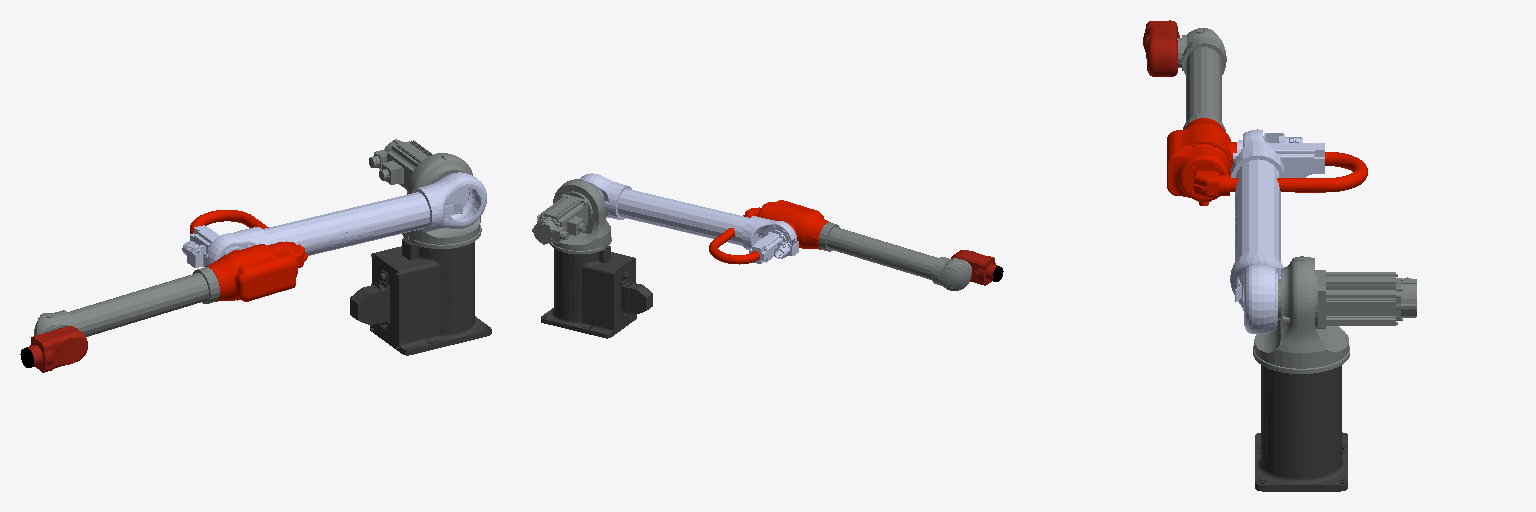
URDF robot description (HSR-BR610-1300-2026825):
<?xml version="1.0" encoding="utf-8"?>
<!-- This URDF was automatically created by SolidWorks to URDF Exporter! Originally created by Stephen Brawner (brawner@gmail.com) 
     Commit Version: 1.6.0-4-g7f85cfe  Build Version: 1.6.7995.38578
     For more information, please see http://wiki.ros.org/sw_urdf_exporter -->
<robot
  name="HSR-BR610-1300-2026825">
  <link
    name="base_link">
    <inertial>
      <origin
        xyz="-0.00947525692440264 -2.09394986025804E-07 0.130870576816009"
        rpy="0 0 0" />
      <mass
        value="11.3648443242494" />
      <inertia
        ixx="0.0941610098443713"
        ixy="2.86107374747134E-06"
        ixz="-0.00563813071143465"
        iyy="0.125919418577362"
        iyz="-2.59919899401709E-09"
        izz="0.0788237378414867" />
    </inertial>
    <visual>
      <origin
        xyz="0 0 0"
        rpy="0 0 0" />
      <geometry>
        <mesh
          filename="package://HSR-BR610-1300-2026825/meshes/base_link.STL" />
      </geometry>
      <material
        name="">
        <color
          rgba="0.294117647058824 0.294117647058824 0.294117647058824 1" />
      </material>
    </visual>
    <collision>
      <origin
        xyz="0 0 0"
        rpy="0 0 0" />
      <geometry>
        <mesh
          filename="package://HSR-BR610-1300-2026825/meshes/base_link.STL" />
      </geometry>
    </collision>
  </link>
  <link
    name="J1">
    <inertial>
      <origin
        xyz="-0.00170707525087675 0.0454046589538665 0.0989929087377179"
        rpy="0 0 0" />
      <mass
        value="5.7592246311655" />
      <inertia
        ixx="0.0575951663806666"
        ixy="0.00134872849814164"
        ixz="0.000398242207826708"
        iyy="0.031239131871014"
        iyz="-0.00906366083539025"
        izz="0.0503094164574005" />
    </inertial>
    <visual>
      <origin
        xyz="0 0 0"
        rpy="0 0 0" />
      <geometry>
        <mesh
          filename="package://HSR-BR610-1300-2026825/meshes/J1.STL" />
      </geometry>
      <material
        name="">
        <color
          rgba="0.529411764705882 0.549019607843137 0.549019607843137 1" />
      </material>
    </visual>
    <collision>
      <origin
        xyz="0 0 0"
        rpy="0 0 0" />
      <geometry>
        <mesh
          filename="package://HSR-BR610-1300-2026825/meshes/J1.STL" />
      </geometry>
    </collision>
  </link>
  <joint
    name="J1"
    type="revolute">
    <origin
      xyz="0.0375 0 0.283"
      rpy="0 0 0" />
    <parent
      link="base_link" />
    <child
      link="J1" />
    <axis
      xyz="0 0 1" />
    <limit
      lower="-2.7"
      upper="2.7"
      effort="110"
      velocity="6.2" />
  </joint>
  <link
    name="J2">
    <inertial>
      <origin
        xyz="-9.27217139909154E-05 -0.396205929499671 -0.0435575868135686"
        rpy="0 0 0" />
      <mass
        value="6.5951117334012" />
      <inertia
        ixx="0.38666838815466"
        ixy="-0.000197955602163329"
        ixz="4.50801235554094E-05"
        iyy="0.0129682532637907"
        iyz="0.00658602686747636"
        izz="0.384843238184399" />
    </inertial>
    <visual>
      <origin
        xyz="0 0 0"
        rpy="0 0 0" />
      <geometry>
        <mesh
          filename="package://HSR-BR610-1300-2026825/meshes/J2.STL" />
      </geometry>
      <material
        name="">
        <color
          rgba="0.792156862745098 0.819607843137255 0.933333333333333 1" />
      </material>
    </visual>
    <collision>
      <origin
        xyz="0 0 0"
        rpy="0 0 0" />
      <geometry>
        <mesh
          filename="package://HSR-BR610-1300-2026825/meshes/J2.STL" />
      </geometry>
    </collision>
  </link>
  <joint
    name="J2"
    type="revolute">
    <origin
      xyz="0 -0.0475 0.133"
      rpy="-1.5708 0 0" />
    <parent
      link="J1" />
    <child
      link="J2" />
    <axis
      xyz="0 0 1" />
    <limit
      lower="-3.1"
      upper="-0.03"
      effort="110"
      velocity="4.3" />
  </joint>
  <link
    name="J3">
    <inertial>
      <origin
        xyz="0.000151615811517125 -0.0150645626724696 -0.076610299827678"
        rpy="0 0 0" />
      <mass
        value="3.47855787129341" />
      <inertia
        ixx="0.0116544037035361"
        ixy="8.35116148186985E-06"
        ixz="8.63881231505848E-07"
        iyy="0.00845553176433113"
        iyz="-0.000435559054150244"
        izz="0.00918508747854132" />
    </inertial>
    <visual>
      <origin
        xyz="0 0 0"
        rpy="0 0 0" />
      <geometry>
        <mesh
          filename="package://HSR-BR610-1300-2026825/meshes/J3.STL" />
      </geometry>
      <material
        name="">
        <color
          rgba="0.874509803921569 0.149019607843137 0 1" />
      </material>
    </visual>
    <collision>
      <origin
        xyz="0 0 0"
        rpy="0 0 0" />
      <geometry>
        <mesh
          filename="package://HSR-BR610-1300-2026825/meshes/J3.STL" />
      </geometry>
    </collision>
  </link>
  <joint
    name="J3"
    type="revolute">
    <origin
      xyz="0 -0.726 -0.089"
      rpy="0 0 -1.5708" />
    <parent
      link="J2" />
    <child
      link="J3" />
    <axis
      xyz="0 0 1" />
    <limit
      lower="2"
      upper="7.3"
      effort="55"
      velocity="6.2" />
  </joint>
  <link
    name="J4">
    <inertial>
      <origin
        xyz="-1.70391788643087E-05 -0.00179102086498159 0.286182837282508"
        rpy="0 0 0" />
      <mass
        value="3.12272451478143" />
      <inertia
        ixx="0.0894635500616638"
        ixy="-3.88791373071095E-07"
        ixz="1.21653667004422E-05"
        iyy="0.0894184137188769"
        iyz="0.00130984243738576"
        izz="0.00305547347391822" />
    </inertial>
    <visual>
      <origin
        xyz="0 0 0"
        rpy="0 0 0" />
      <geometry>
        <mesh
          filename="package://HSR-BR610-1300-2026825/meshes/J4.STL" />
      </geometry>
      <material
        name="">
        <color
          rgba="0.529411764705882 0.549019607843137 0.549019607843137 1" />
      </material>
    </visual>
    <collision>
      <origin
        xyz="0 0 0"
        rpy="0 0 0" />
      <geometry>
        <mesh
          filename="package://HSR-BR610-1300-2026825/meshes/J4.STL" />
      </geometry>
    </collision>
  </link>
  <joint
    name="J4"
    type="revolute">
    <origin
      xyz="0 0.122 -0.079"
      rpy="1.5708 0 3.1416" />
    <parent
      link="J3" />
    <child
      link="J4" />
    <axis
      xyz="0 0 1" />
    <limit
      lower="-3.3"
      upper="3.3"
      effort="20.4"
      velocity="8.3" />
  </joint>
  <link
    name="J5">
    <inertial>
      <origin
        xyz="-0.000256817518454966 -0.022426558547908 -0.0286496891644227"
        rpy="0 0 0" />
      <mass
        value="0.872957259280263" />
      <inertia
        ixx="0.0020195438874612"
        ixy="4.96790439628782E-07"
        ixz="1.76565321108469E-06"
        iyy="0.000812183602825857"
        iyz="-1.51619730994868E-05"
        izz="0.00220613118035737" />
    </inertial>
    <visual>
      <origin
        xyz="0 0 0"
        rpy="0 0 0" />
      <geometry>
        <mesh
          filename="package://HSR-BR610-1300-2026825/meshes/J5.STL" />
      </geometry>
      <material
        name="">
        <color
          rgba="0.650980392156863 0.16078431372549 0.109803921568627 1" />
      </material>
    </visual>
    <collision>
      <origin
        xyz="0 0 0"
        rpy="0 0 0" />
      <geometry>
        <mesh
          filename="package://HSR-BR610-1300-2026825/meshes/J5.STL" />
      </geometry>
    </collision>
  </link>
  <joint
    name="J5"
    type="revolute">
    <origin
      xyz="-0.00060399 -0.063997 0.5085"
      rpy="-1.5708 0 0" />
    <parent
      link="J4" />
    <child
      link="J5" />
    <axis
      xyz="0.0094374 0 0.99996" />
    <limit
      lower="-2.8"
      upper="2.8"
      effort="20.4"
      velocity="6.2" />
  </joint>
  <link
    name="J6">
    <inertial>
      <origin
        xyz="-0.00576494855732945 1.33945984875927E-06 0.000115306652561653"
        rpy="0 0 0" />
      <mass
        value="0.0270769176758824" />
      <inertia
        ixx="1.01791524117559E-05"
        ixy="5.87106324215361E-11"
        ixz="-6.22077349599095E-09"
        iyy="5.33725017105807E-06"
        iyz="-1.88944281506334E-09"
        izz="5.53743109744358E-06" />
    </inertial>
    <visual>
      <origin
        xyz="0 0 0"
        rpy="0 0 0" />
      <geometry>
        <mesh
          filename="package://HSR-BR610-1300-2026825/meshes/J6.STL" />
      </geometry>
      <material
        name="">
        <color
          rgba="0 0 0 1" />
      </material>
    </visual>
    <collision>
      <origin
        xyz="0 0 0"
        rpy="0 0 0" />
      <geometry>
        <mesh
          filename="package://HSR-BR610-1300-2026825/meshes/J6.STL" />
      </geometry>
    </collision>
  </link>
  <joint
    name="J6"
    type="revolute">
    <origin
      xyz="-0.00027126 -0.11 -0.029501"
      rpy="1.5708 0 1.5708" />
    <parent
      link="J5" />
    <child
      link="J6" />
    <axis
      xyz="-1 0 0" />
    <limit
      lower="-6.2"
      upper="6.2"
      effort="12.7"
      velocity="7.8" />
  </joint>
</robot>

--- Facts derived from the render (not from the file) ---
3 views of the same robot in one strip: view 1: azimuth 30°, elevation 25°; view 2: azimuth 150°, elevation 25°; view 3: azimuth 270°, elevation 25° (orthographic).
Model HSR-BR610-1300-2026825 with 7 links and 6 joints (6 revolute), rooted at base_link, posed joints at zero except 2 at the middle of their limits (J2 = -1.56, J3 = 4.65).
Visible links, largest first — view 1: base_link, J2, J4, J3, J1, J5; view 2: base_link, J2, J1, J4, J3, J5; view 3: J1, J2, base_link, J3, J4, J5.
Link boxes in pixels (<box>): base_link: <box>350,238,491,355</box>; J2: <box>182,172,486,267</box>; J4: <box>34,267,219,336</box>; J3: <box>190,210,307,301</box>; J1: <box>369,139,481,248</box>; J5: <box>26,326,87,372</box>; base_link: <box>541,246,652,338</box>; J2: <box>580,173,798,263</box>; J1: <box>532,179,611,253</box>; J4: <box>818,222,971,290</box>; J3: <box>709,200,830,264</box>; J5: <box>951,250,997,285</box>; J1: <box>1253,256,1416,373</box>; J2: <box>1230,129,1324,334</box>; base_link: <box>1255,365,1347,491</box>; J3: <box>1167,118,1367,205</box>; J4: <box>1177,28,1226,131</box>; J5: <box>1143,20,1179,76</box>.
Size in the robot's own frame: 1.59 by 0.6044 by 0.5155 metres.
Meshes: 7 distinct files referenced, 7 mesh visuals loaded (7 binary STL).
